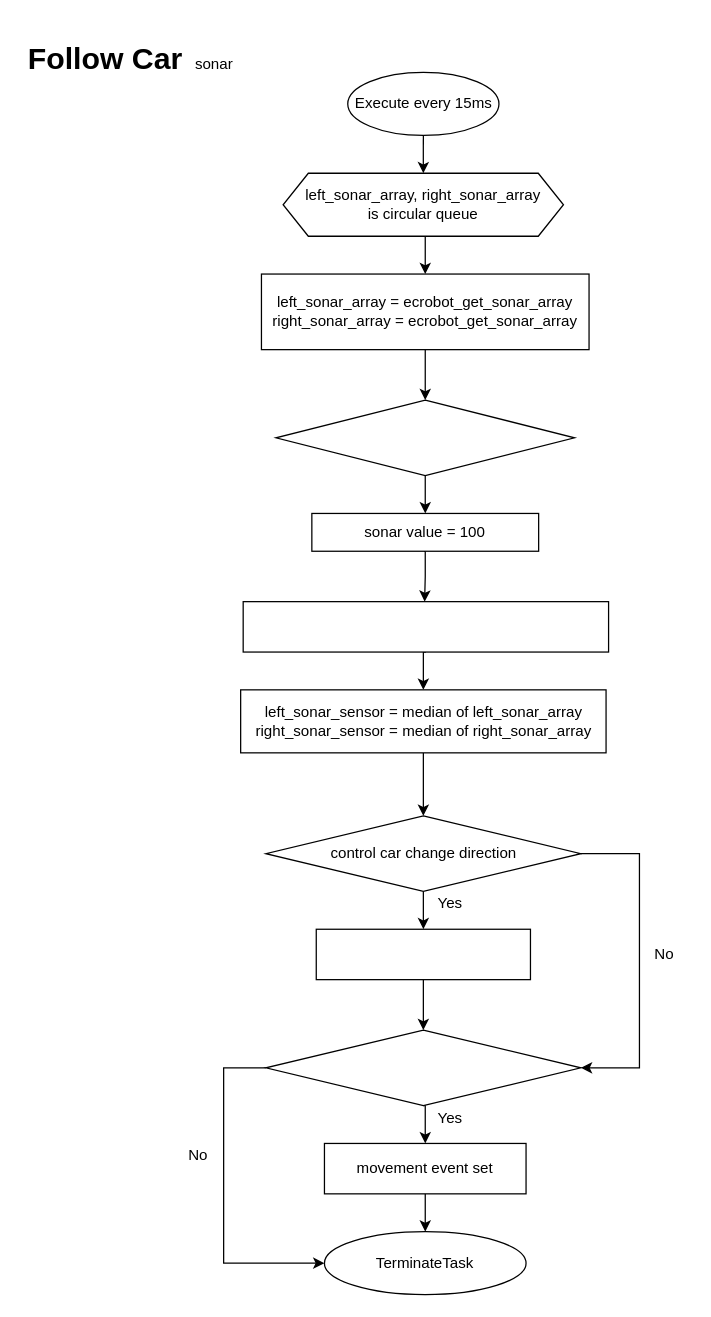
The diagram is 711 pixels wide and 1317 high, and some of its shapes have lost their labels. Each missing label, with the centre of its shape:
"control car change speed" goes at point 423,1067.
"sonar value >= 100" goes at point 425,437.
"sort left_sonar_array, right_sonar_array ascending" goes at point 425,626.
"steering event set" goes at point 422,954.
